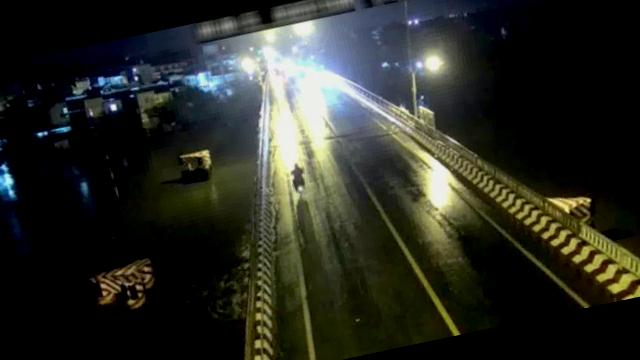Bike: (288, 156, 310, 196)
